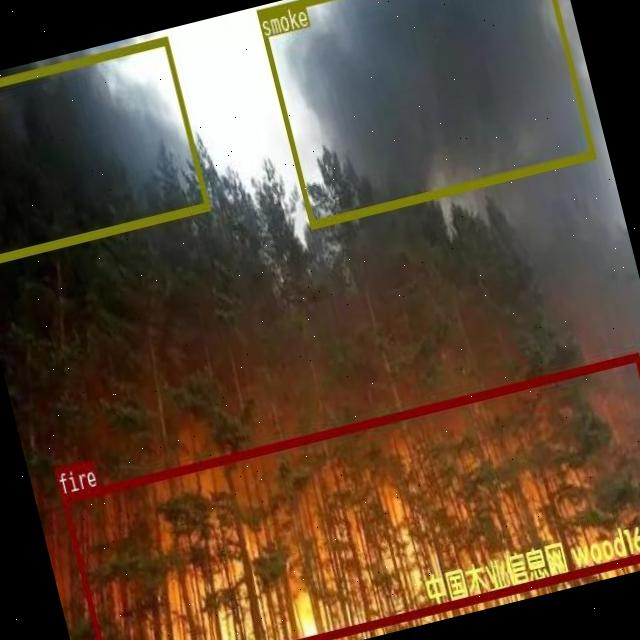fire: (60, 351, 640, 640)
smoke: (255, 0, 594, 227), (0, 34, 209, 265)
